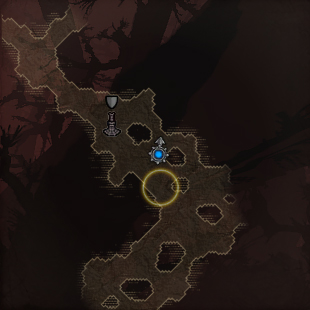Guardian2: (141, 166, 180, 208)
